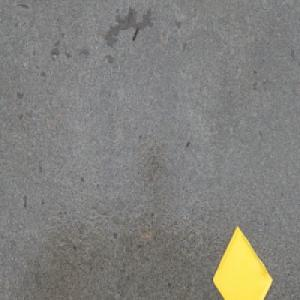PlasticPart: (211, 224, 273, 300)
